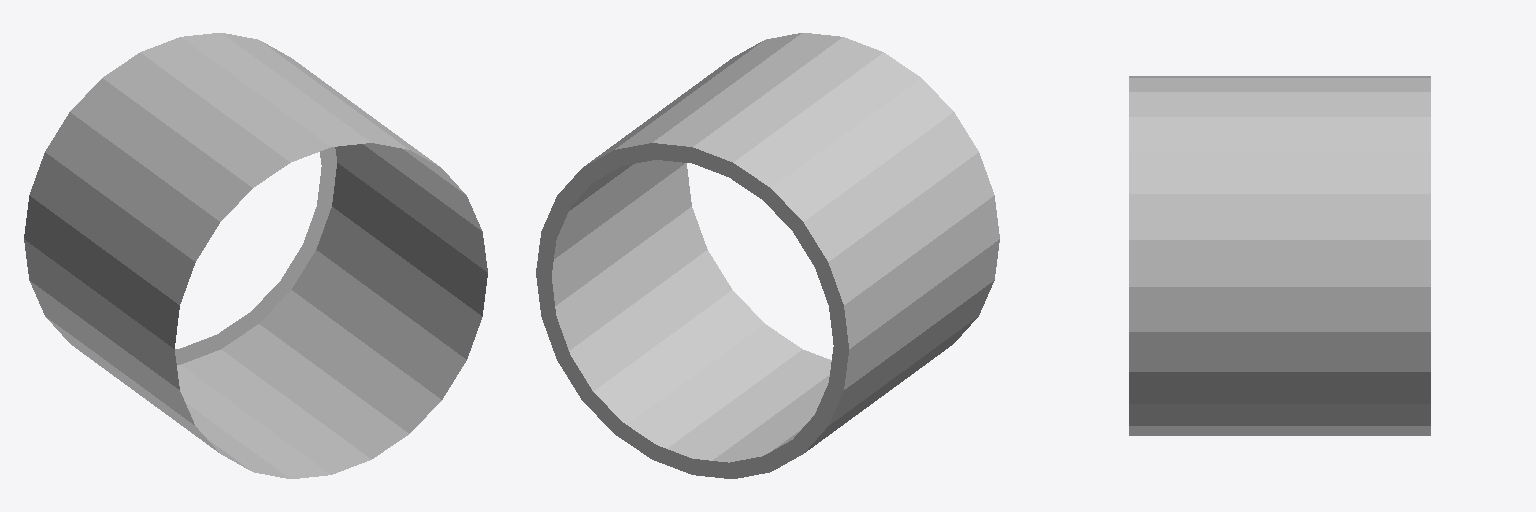
The model's file is original-5.obj.
3 renders of one model, left to right at view 1: azimuth 30°, elevation 25°; view 2: azimuth 150°, elevation 25°; view 3: azimuth 270°, elevation 25°, orthographic.
Parts seen in each view (by area): view 1: #ID67; view 2: #ID67; view 3: #ID67.
Boxes of the visible parts, x1=… form: #ID67: x1=24, y1=33, x2=487, y2=478; #ID67: x1=536, y1=33, x2=999, y2=478; #ID67: x1=1129, y1=76, x2=1430, y2=435.
Bounding box in the file's own units: 0.0712 × 0.0712 × 0.0593.